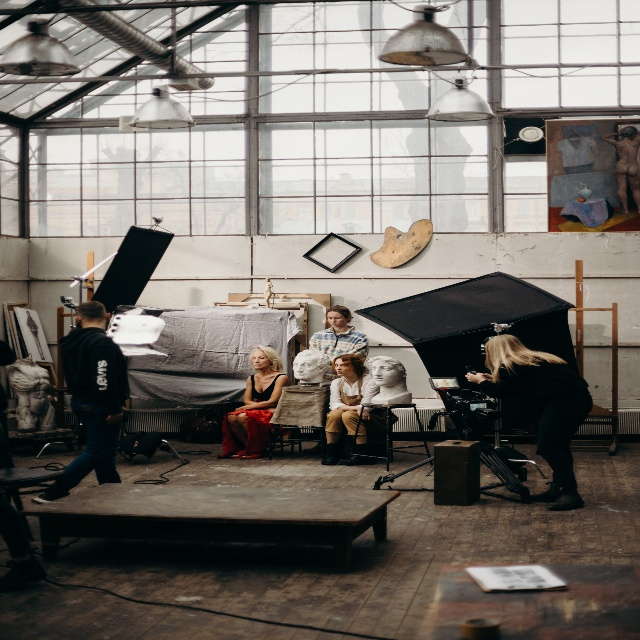Sin_guantes: (465, 371, 484, 384), (106, 413, 122, 427), (357, 405, 370, 421), (235, 405, 243, 412)
